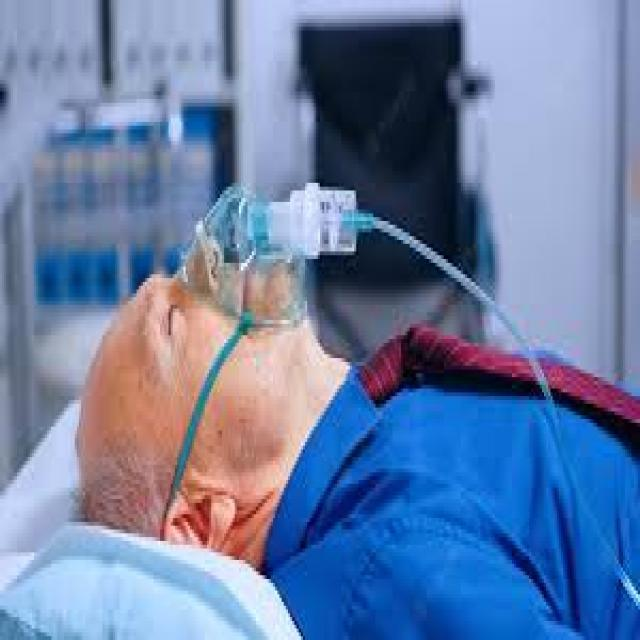oxygen_mask: (196, 204, 406, 348)
